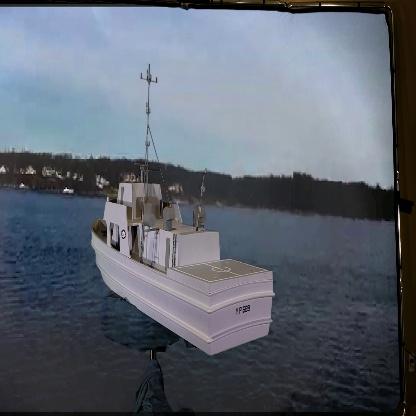YP689: (89, 61, 275, 357)
